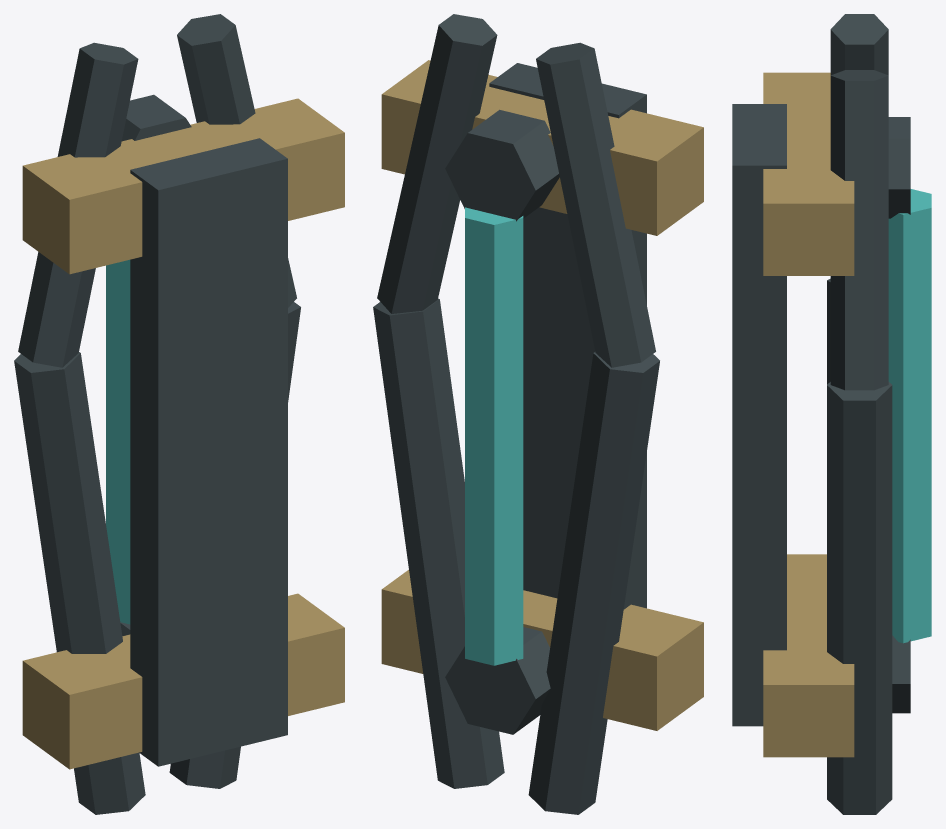
File: Socket_734.fbx
3 views of the same model, side by side, from view 1: azimuth 30°, elevation 25°; view 2: azimuth 150°, elevation 25°; view 3: azimuth 270°, elevation 25° (orthographic). The views are drawn at different scales.
Visible parts, largest first — view 1: Socket_734; view 2: Socket_734; view 3: Socket_734.
Boxes of the visible parts, left/top/right/bottom form: Socket_734: left=14, top=14, right=344, bottom=814; Socket_734: left=373, top=14, right=703, bottom=814; Socket_734: left=732, top=14, right=931, bottom=814.
Bounding box in the file's own units: 0.085 × 0.2227 × 0.0548.
